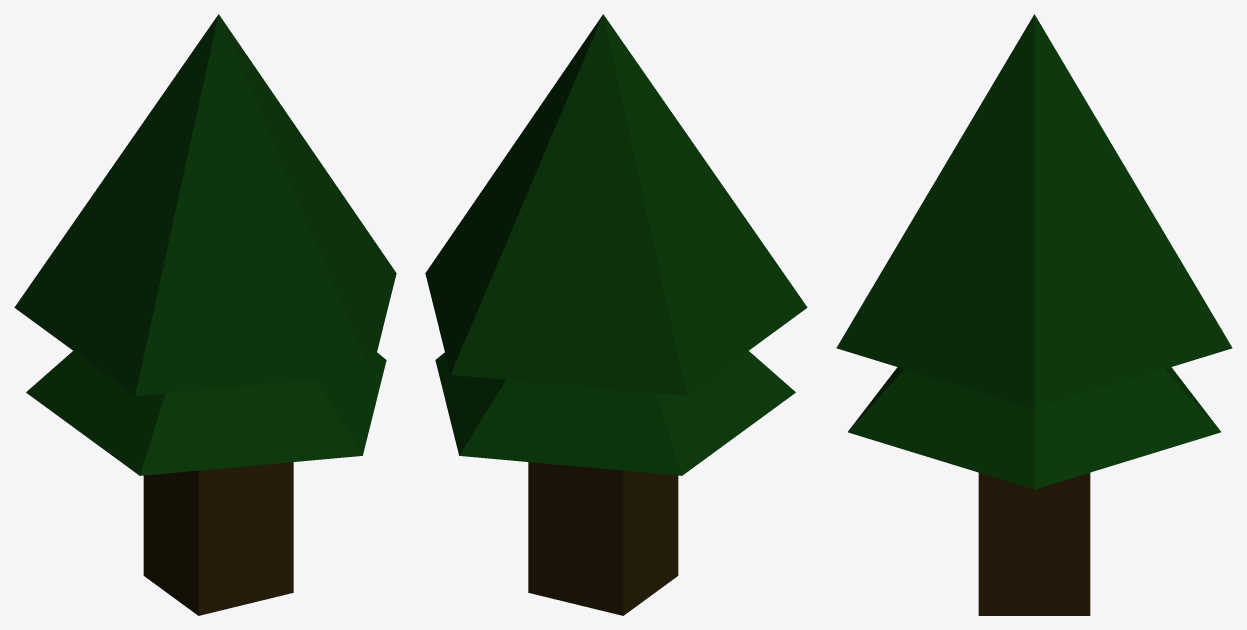
The model's file is Tree.fbx.
3 views of the same model, side by side, from view 1: azimuth 30°, elevation 25°; view 2: azimuth 150°, elevation 25°; view 3: azimuth 270°, elevation 25° (orthographic).
Parts seen in each view (by area): view 1: Leaves, Trunk; view 2: Leaves, Trunk; view 3: Leaves, Trunk.
Boxes of the visible parts, left/top/right/bottom form: Leaves: left=14, top=14, right=396, bottom=475; Trunk: left=143, top=462, right=293, bottom=615; Leaves: left=425, top=14, right=807, bottom=475; Trunk: left=528, top=462, right=678, bottom=615; Leaves: left=836, top=14, right=1232, bottom=489; Trunk: left=978, top=472, right=1090, bottom=615.
Bounding box in the file's own units: 677 × 1146 × 712.
